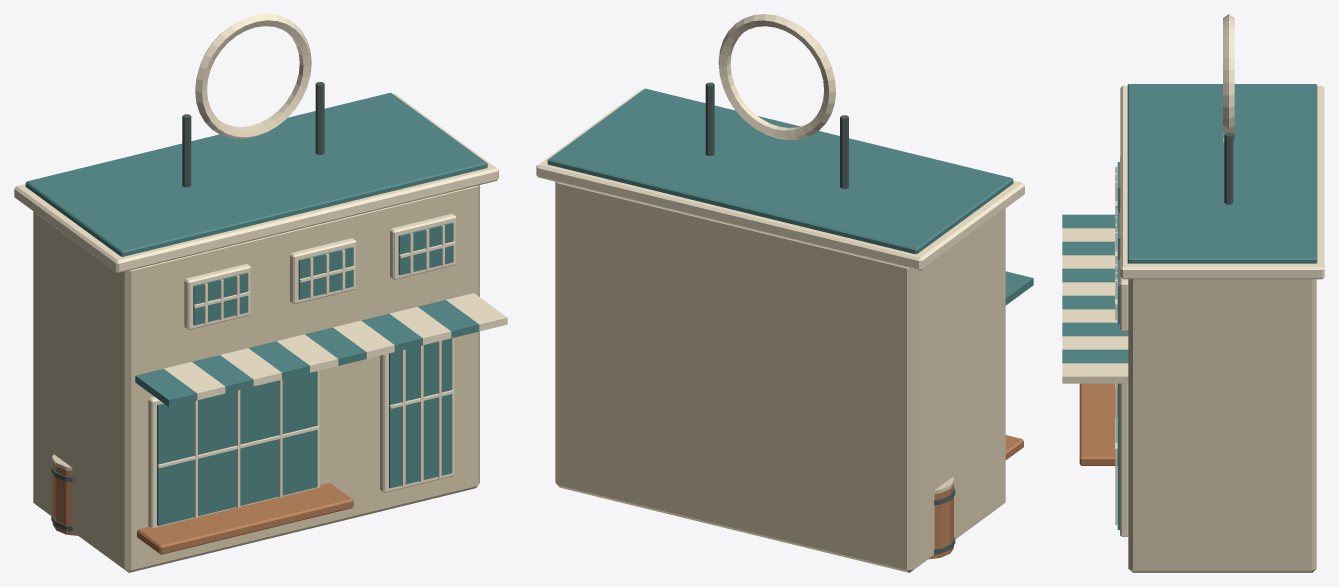
File: hsc3_shift_canteen_7m.glb
The picture shows the model from 3 angles, left to right: view 1: azimuth 30°, elevation 25°; view 2: azimuth 150°, elevation 25°; view 3: azimuth 270°, elevation 25°; orthographic projection. The views are drawn at different scales.
Visible parts, largest first — view 1: hsc3_shift_canteen_7m__hsc3-cream-enamel, hsc3_shift_canteen_7m__hsc3-deep-teal, hsc3_shift_canteen_7m__hsc3-pale-trim, hsc3_shift_canteen_7m__hsc3-roasted-copper, hsc3_shift_canteen_7m__hsc3-charcoal-metal; view 2: hsc3_shift_canteen_7m__hsc3-cream-enamel, hsc3_shift_canteen_7m__hsc3-deep-teal, hsc3_shift_canteen_7m__hsc3-pale-trim, hsc3_shift_canteen_7m__hsc3-charcoal-metal, hsc3_shift_canteen_7m__hsc3-roasted-copper; view 3: hsc3_shift_canteen_7m__hsc3-cream-enamel, hsc3_shift_canteen_7m__hsc3-deep-teal, hsc3_shift_canteen_7m__hsc3-pale-trim, hsc3_shift_canteen_7m__hsc3-roasted-copper, hsc3_shift_canteen_7m__hsc3-charcoal-metal.
Part boxes in pixels (left/top/right/bottom): hsc3_shift_canteen_7m__hsc3-cream-enamel: left=33, top=185, right=479, bottom=572; hsc3_shift_canteen_7m__hsc3-deep-teal: left=25, top=92, right=487, bottom=525; hsc3_shift_canteen_7m__hsc3-pale-trim: left=14, top=14, right=507, bottom=527; hsc3_shift_canteen_7m__hsc3-roasted-copper: left=52, top=462, right=353, bottom=554; hsc3_shift_canteen_7m__hsc3-charcoal-metal: left=51, top=82, right=324, bottom=531; hsc3_shift_canteen_7m__hsc3-cream-enamel: left=555, top=182, right=1005, bottom=572; hsc3_shift_canteen_7m__hsc3-deep-teal: left=547, top=88, right=1033, bottom=305; hsc3_shift_canteen_7m__hsc3-pale-trim: left=536, top=14, right=1024, bottom=270; hsc3_shift_canteen_7m__hsc3-charcoal-metal: left=705, top=82, right=955, bottom=554; hsc3_shift_canteen_7m__hsc3-roasted-copper: left=928, top=435, right=1023, bottom=559; hsc3_shift_canteen_7m__hsc3-cream-enamel: left=1128, top=279, right=1316, bottom=572; hsc3_shift_canteen_7m__hsc3-deep-teal: left=1062, top=84, right=1317, bottom=529; hsc3_shift_canteen_7m__hsc3-pale-trim: left=1062, top=14, right=1324, bottom=536; hsc3_shift_canteen_7m__hsc3-roasted-copper: left=1079, top=383, right=1117, bottom=465; hsc3_shift_canteen_7m__hsc3-charcoal-metal: left=1224, top=133, right=1233, bottom=204.
Size of the model in its own units: 6.9 by 8.25 by 4.17.
